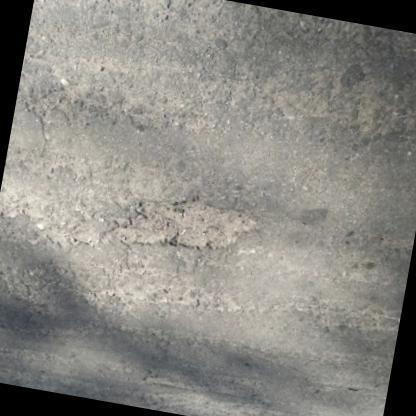pothole: (110, 196, 264, 250), (344, 68, 405, 140)
